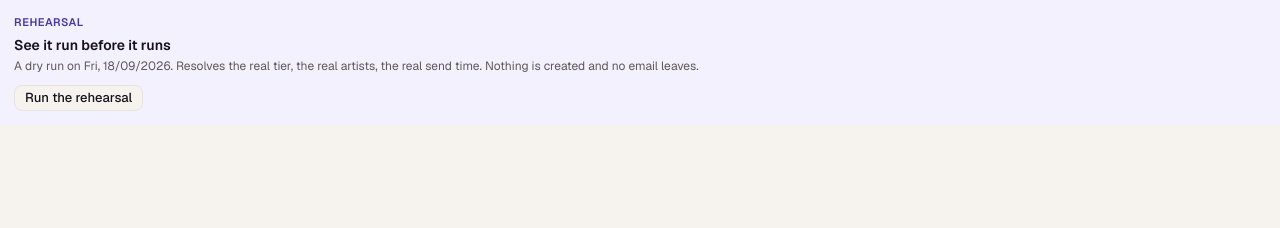
it: RehearsalBlock › runs the dry run and lists candidates
Click the button "Run the rehearsal".
click(79, 98)  # box [14,84,143,110]
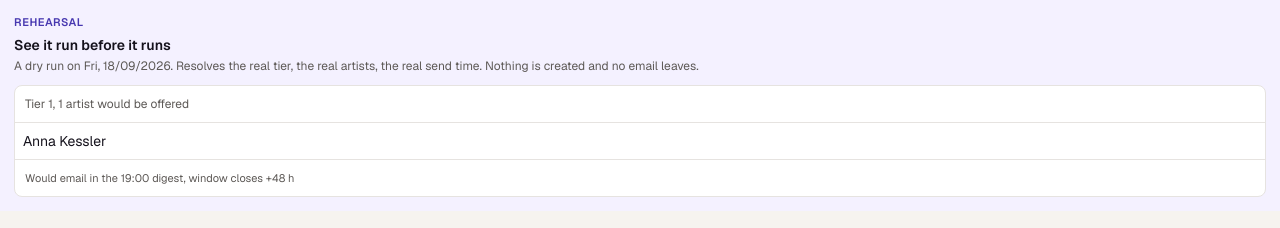
Expected: the text "Anna Kessler" is shown, [15,122,1265,160]
